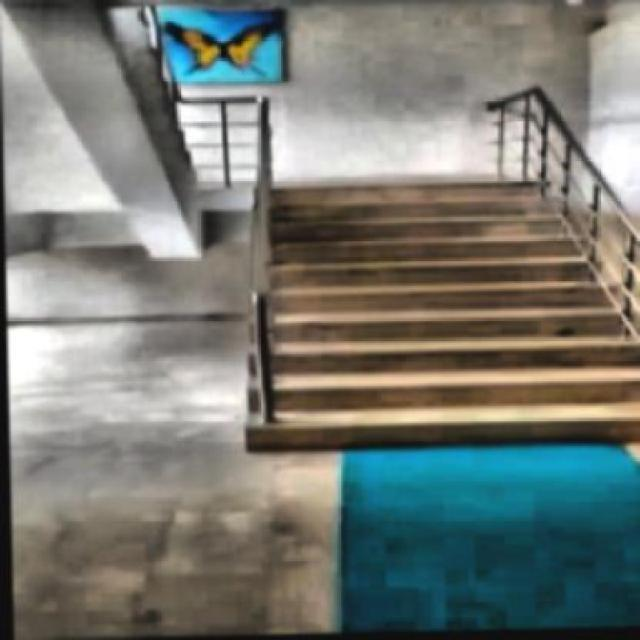stair: (232, 176, 638, 456)
